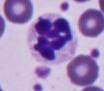N: (25, 12, 77, 64)
